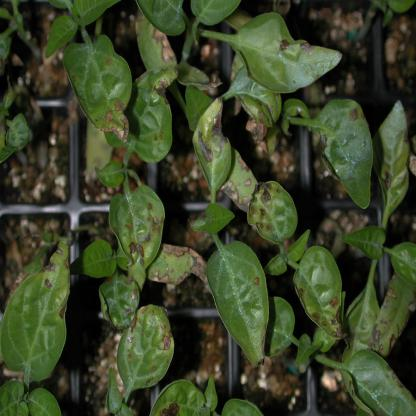Bell_pepper leaf spot: (3, 239, 73, 381), (229, 12, 346, 94), (57, 33, 133, 145), (314, 96, 376, 214), (116, 300, 177, 401), (289, 242, 347, 345), (122, 65, 177, 162), (110, 182, 166, 273), (190, 90, 233, 198), (245, 177, 300, 248), (366, 281, 414, 356), (153, 240, 206, 297), (97, 275, 144, 331)
